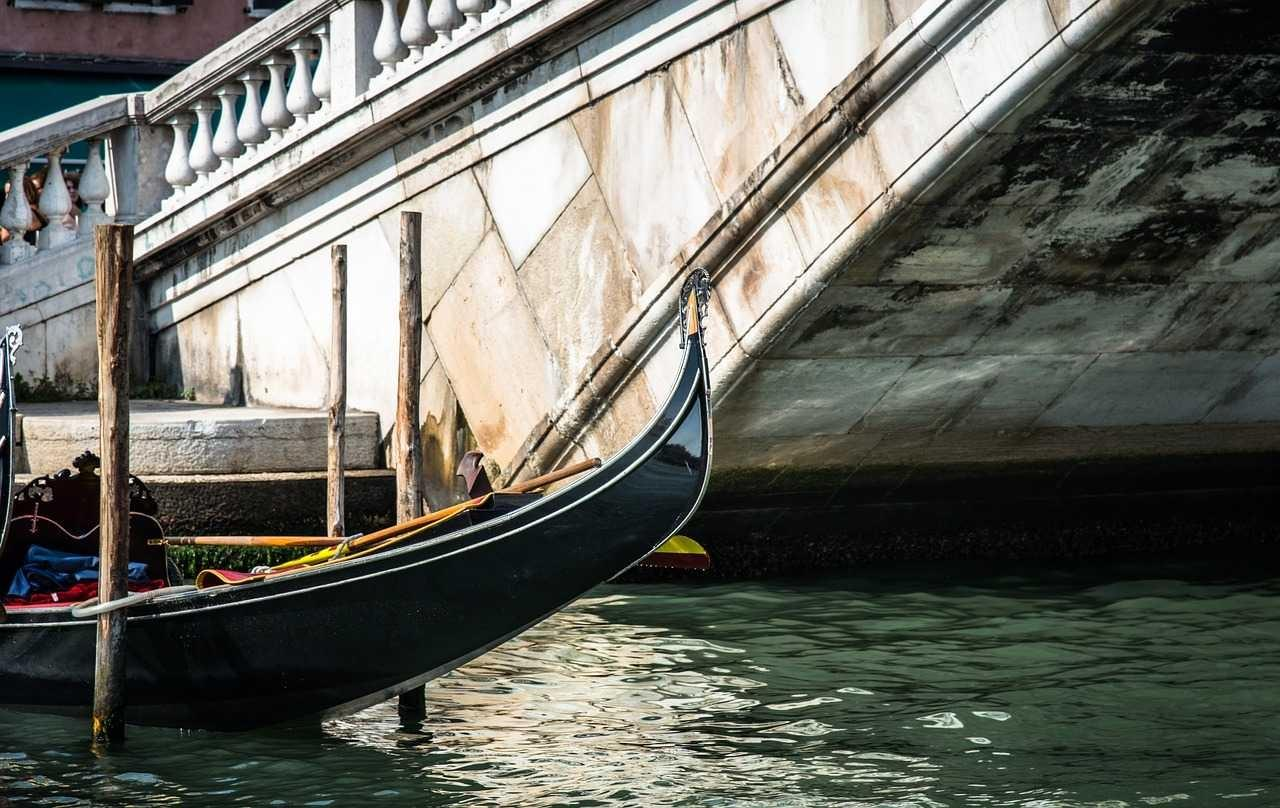kayak: (8, 1, 1113, 733), (2, 272, 714, 734), (609, 534, 711, 583)
